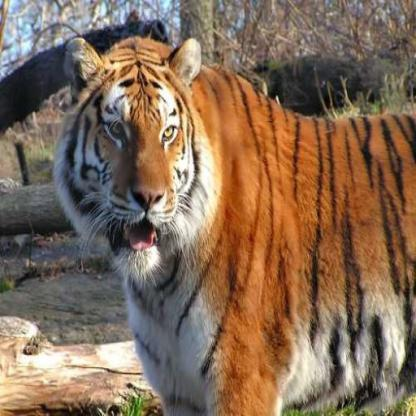Tiger: (48, 2, 415, 415)
